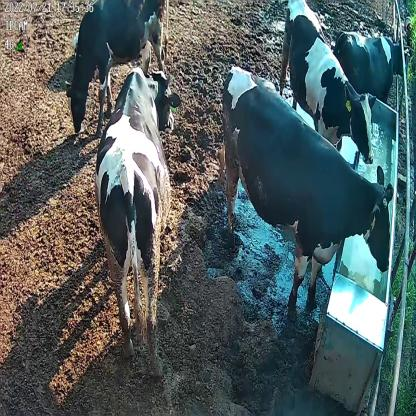cow: (221, 62, 396, 317), (93, 66, 180, 374), (281, 3, 375, 171), (62, 0, 171, 132), (335, 28, 405, 100)
